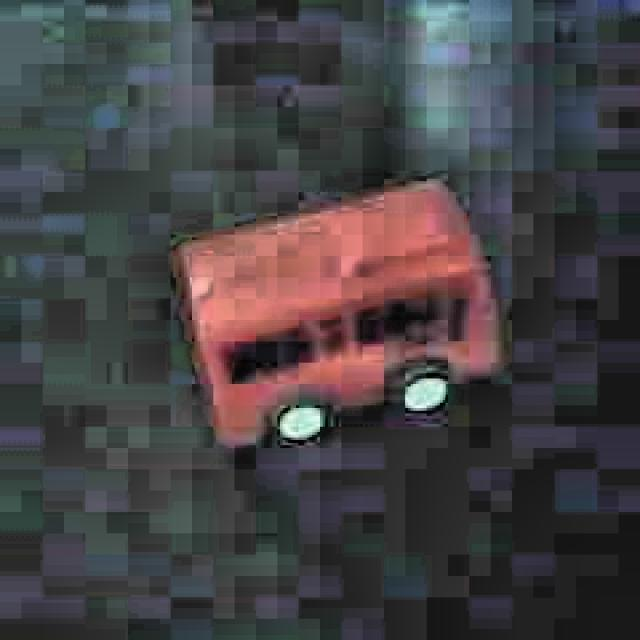bus: (171, 173, 508, 465)
